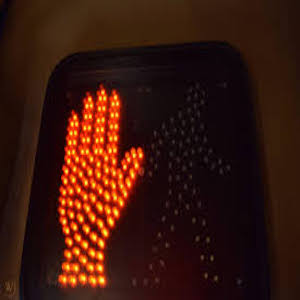red: (51, 83, 151, 294)
